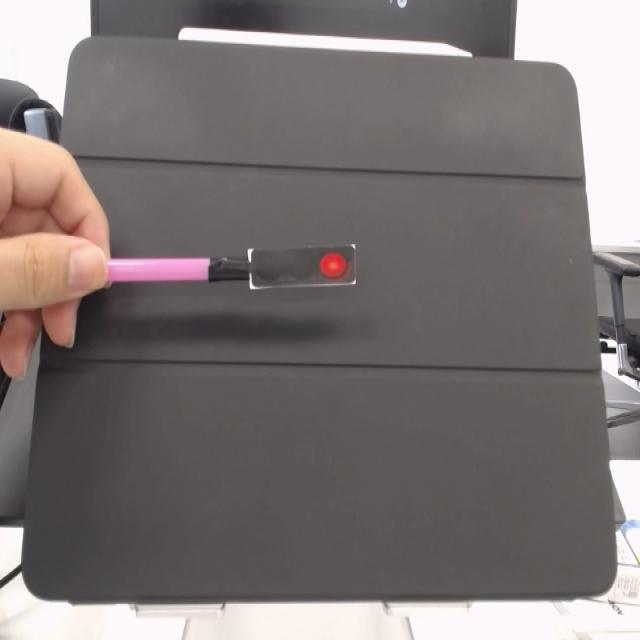traffic light: (248, 245, 359, 293)
